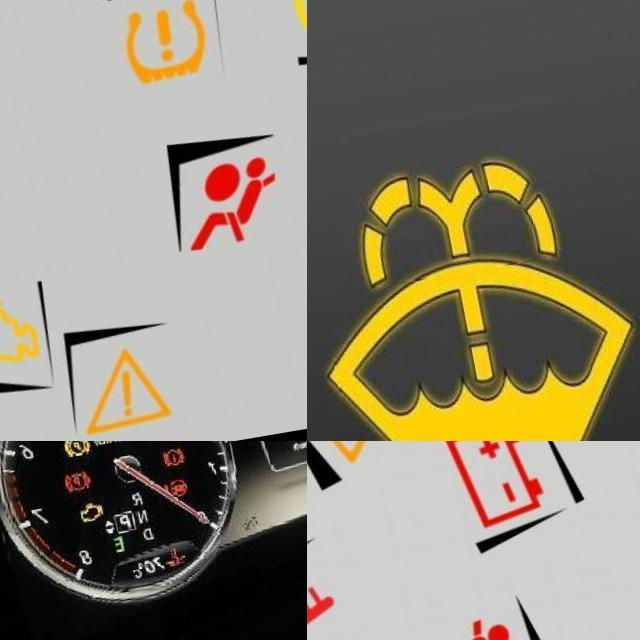Engine cooling system: (148, 552, 173, 575)
Washer Fluid: (307, 162, 636, 441)
